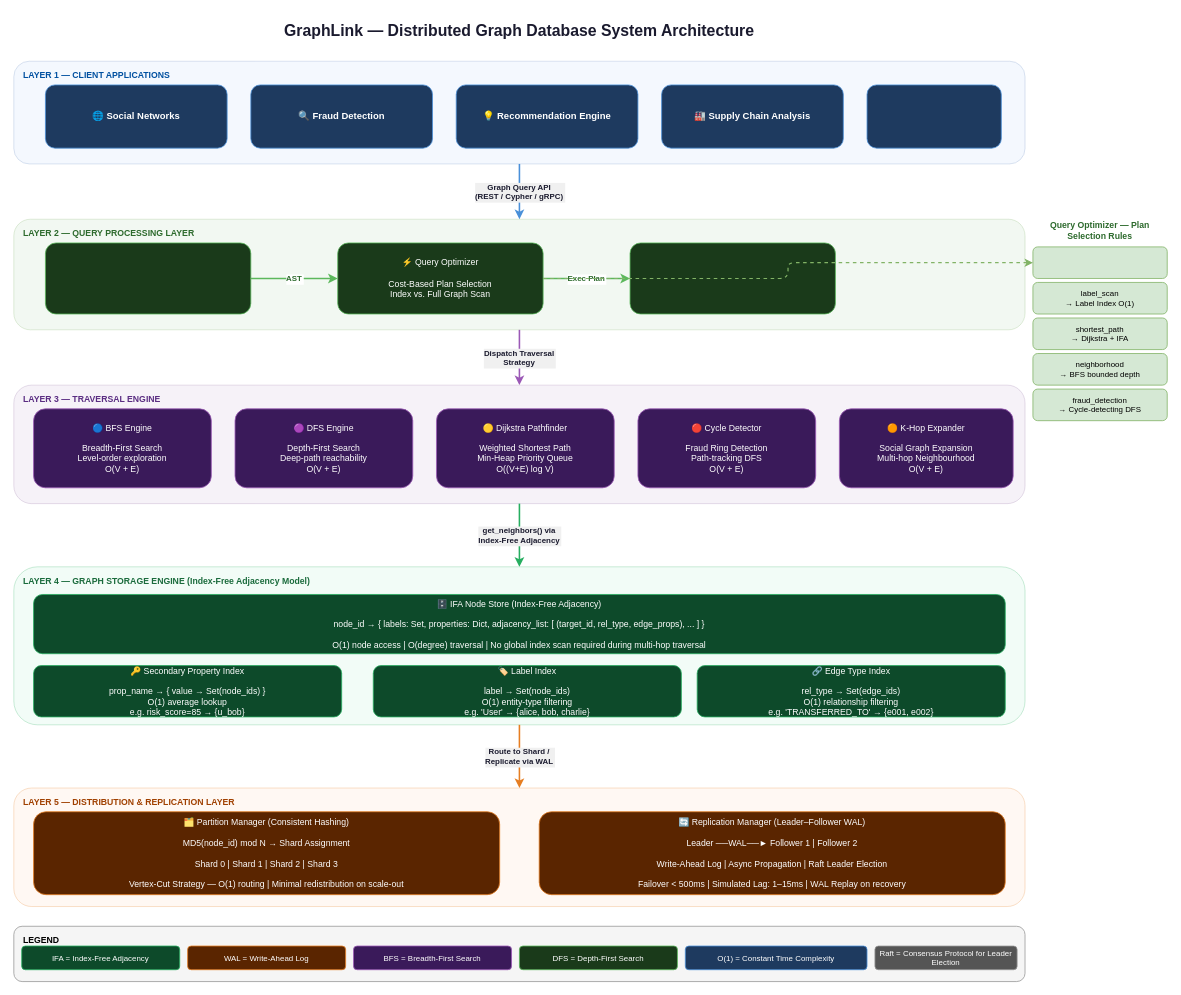
The diagram is 1181 pixels wide and 995 high, and some of its shapes have lost their labels. Each missing label, with the centre of its shape:
property_lookup → Secondary Index O(1): (1099,262)
📝 Query Parser Cypher / API Lexer + AST Builder: (148,278)
🚀 Execution Engine Plan Executor Result Assembler: (732,278)
🧠 Knowledge Graphs: (933,116)
